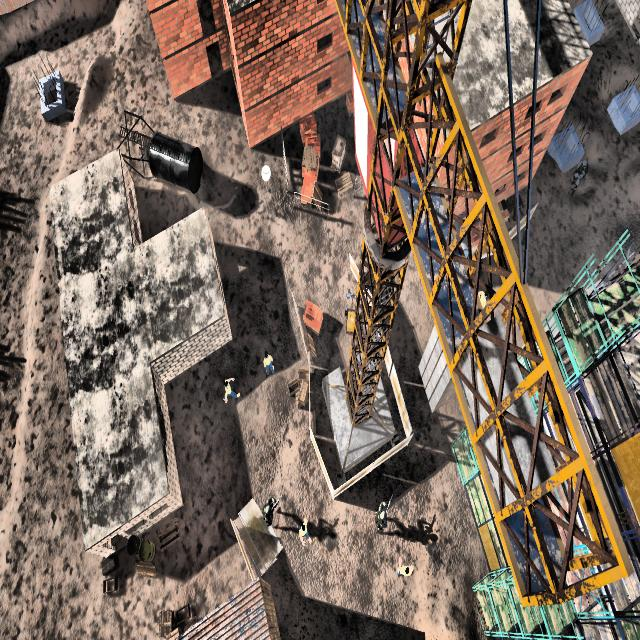bad: (568, 148, 591, 208), (258, 483, 280, 531), (372, 494, 393, 535)
good: (216, 373, 243, 413), (392, 550, 414, 590), (297, 507, 314, 554), (260, 346, 278, 380)
